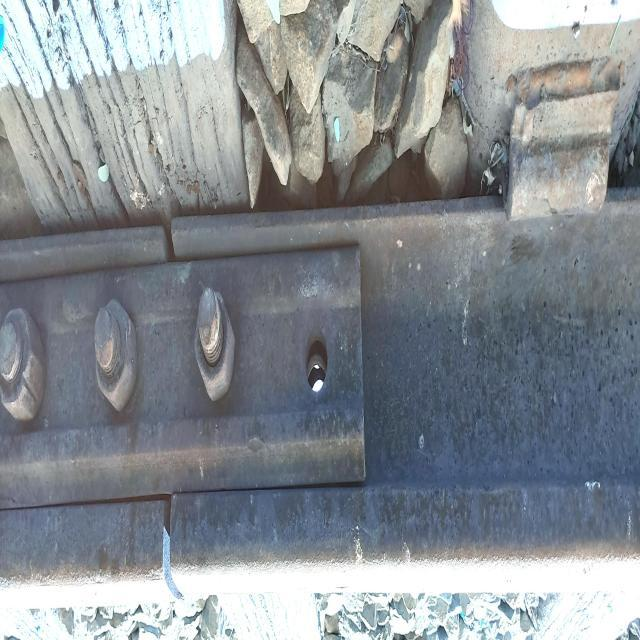Defective Joint: (0, 249, 364, 519)
